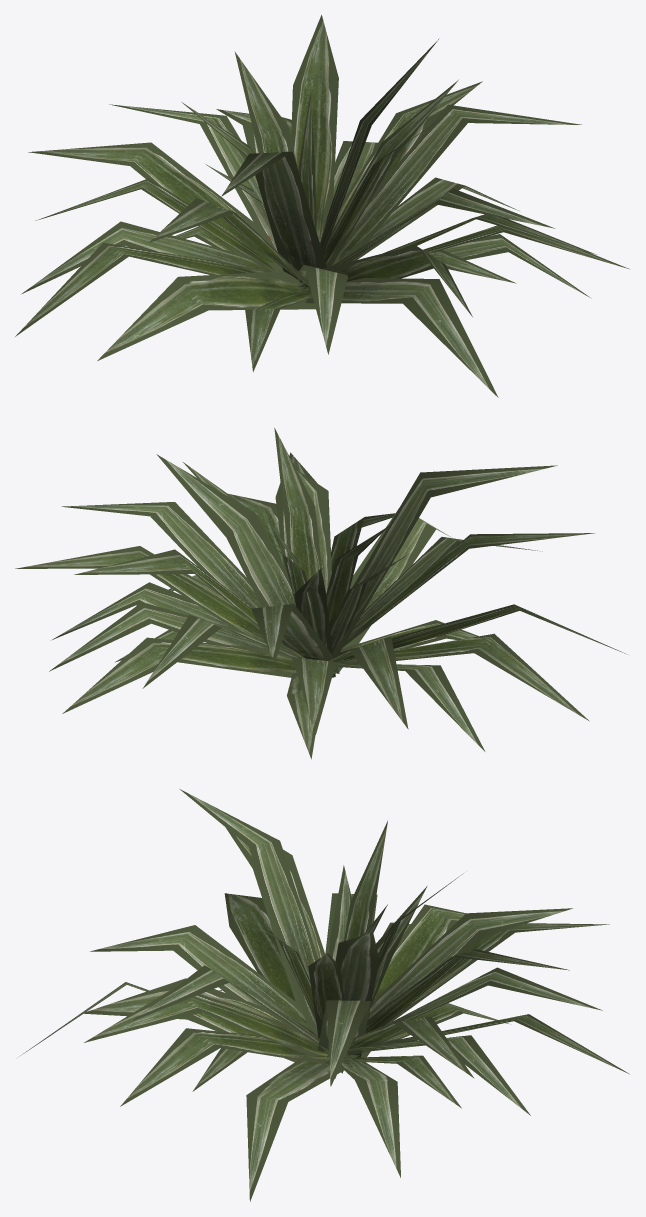
File: Dracaena_derm1_LOD2.fbx
3 renders of one model, top to bottom at view 1: azimuth 30°, elevation 25°; view 2: azimuth 150°, elevation 25°; view 3: azimuth 270°, elevation 25°, orthographic. The views are drawn at different scales.
Parts seen in each view (by area): view 1: polySurface46; view 2: polySurface46; view 3: polySurface46.
Boxes of the visible parts, x1,y1,x2,y2 form: polySurface46: (15,15,629,397); polySurface46: (15,428,626,759); polySurface46: (19,789,629,1201).
Bounding box in the file's own units: 1.74 × 0.6996 × 1.71.
Materials: 1 (1 with a texture image).
